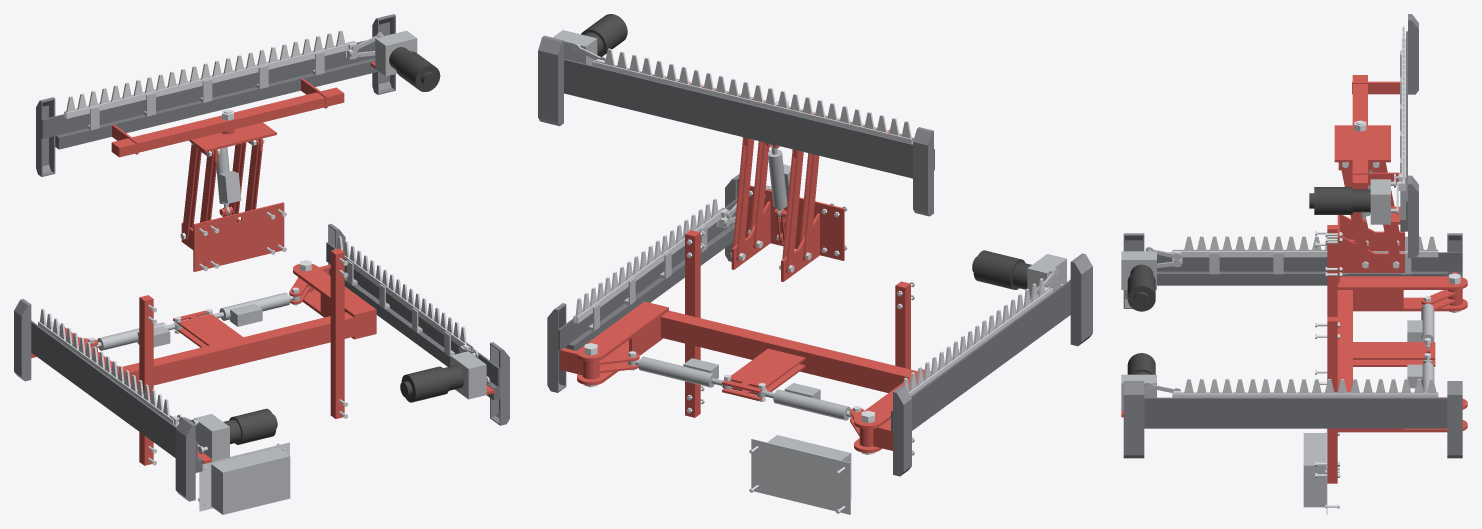
Rendered from raised.glb.
3 renders of one model, left to right at view 1: azimuth 30°, elevation 25°; view 2: azimuth 150°, elevation 25°; view 3: azimuth 270°, elevation 25°, orthographic. The views are drawn at different scales.
Parts seen in each view (by area): view 1: frame; view 2: frame; view 3: frame.
Boxes of the visible parts, x1=… form: frame: x1=14, y1=14, x2=509, y2=514; frame: x1=538, y1=14, x2=1092, y2=514; frame: x1=1121, y1=14, x2=1467, y2=514.
Bounding box in the file's own units: 1.59 × 1.73 × 1.36.
